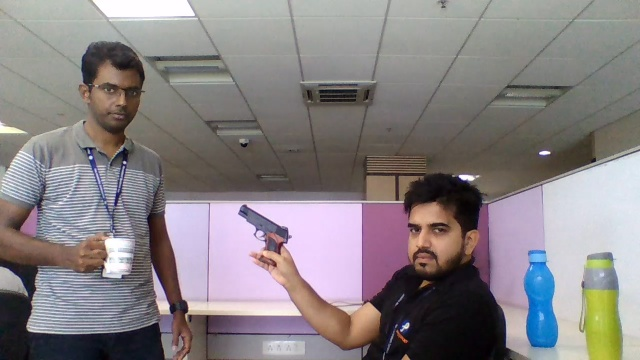gun: (236, 204, 294, 246)
